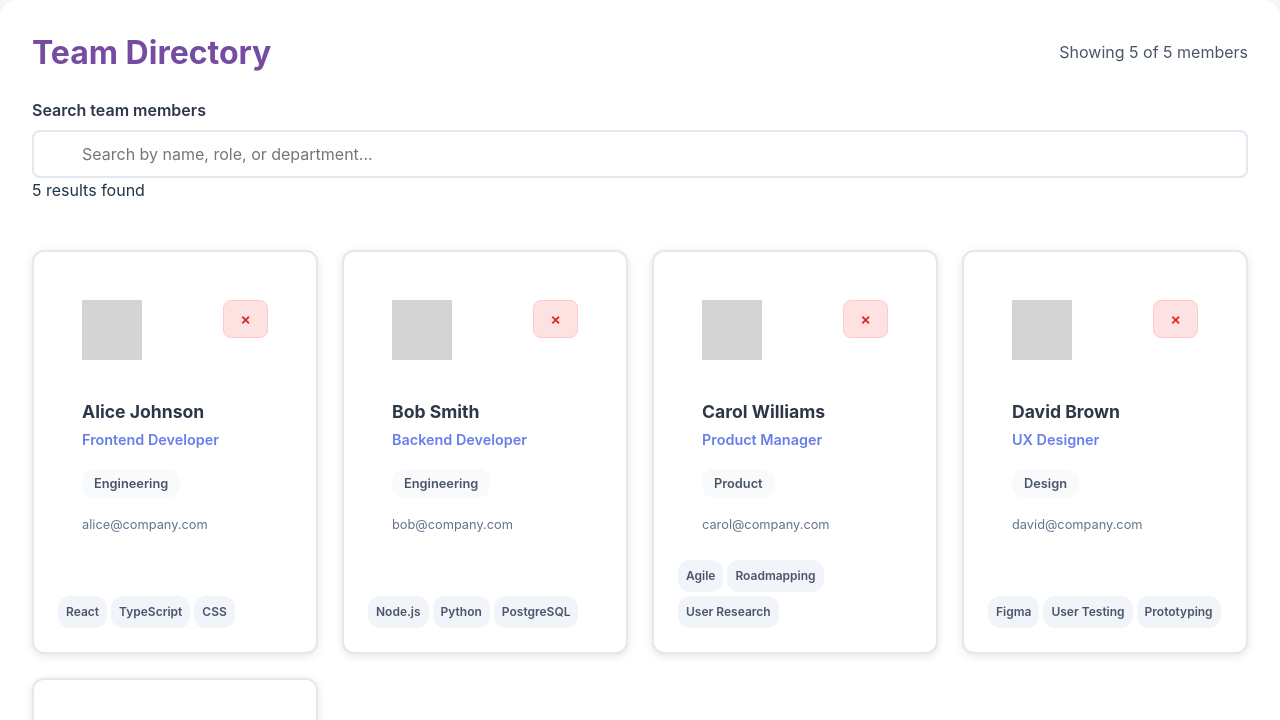
Test: TeamDirectory Component › Search Functionality › filters members by role
This screenshot has width=1280, height=720.
Check: the heading "Alice Johnson" is shown, box [82,401,204,422]
Type "Developer" into the search field with placeholder "Search by name, role, or department..." at point(640, 154), box [32,130,1248,178]
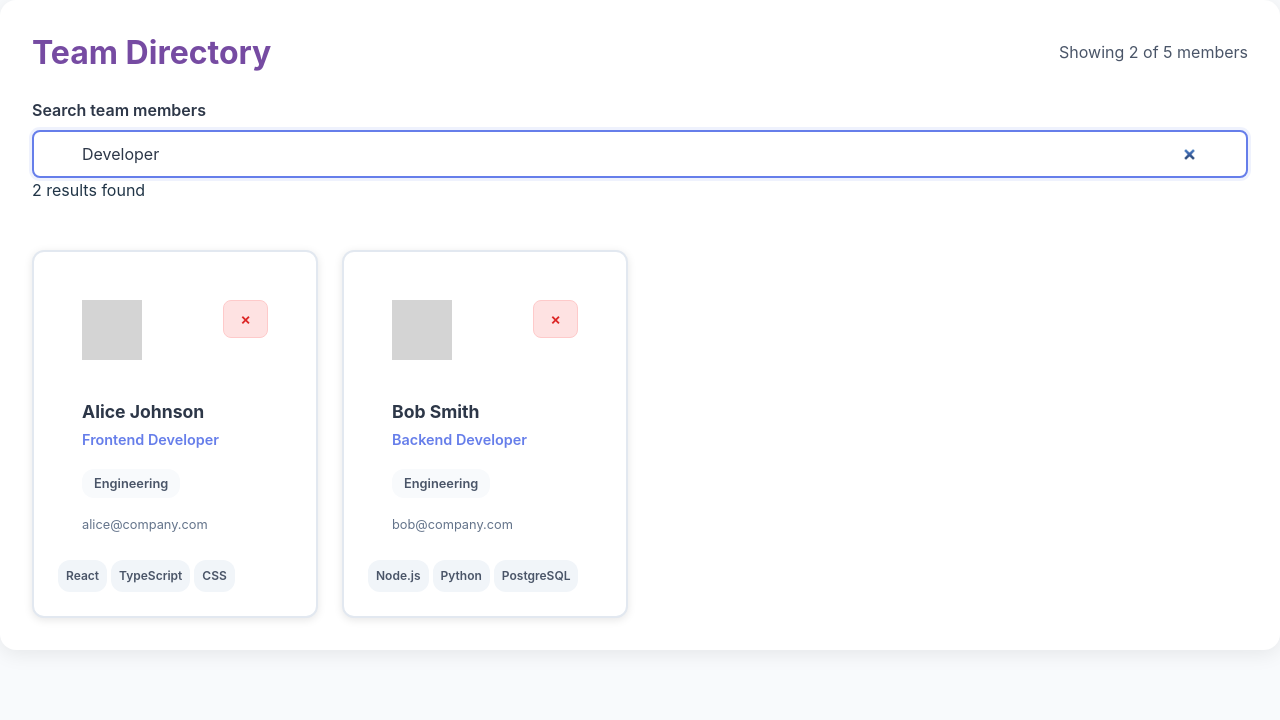
Check: the heading "Alice Johnson" is shown, box [82,401,204,422]
Check: the button "Carol Williams" is gone
